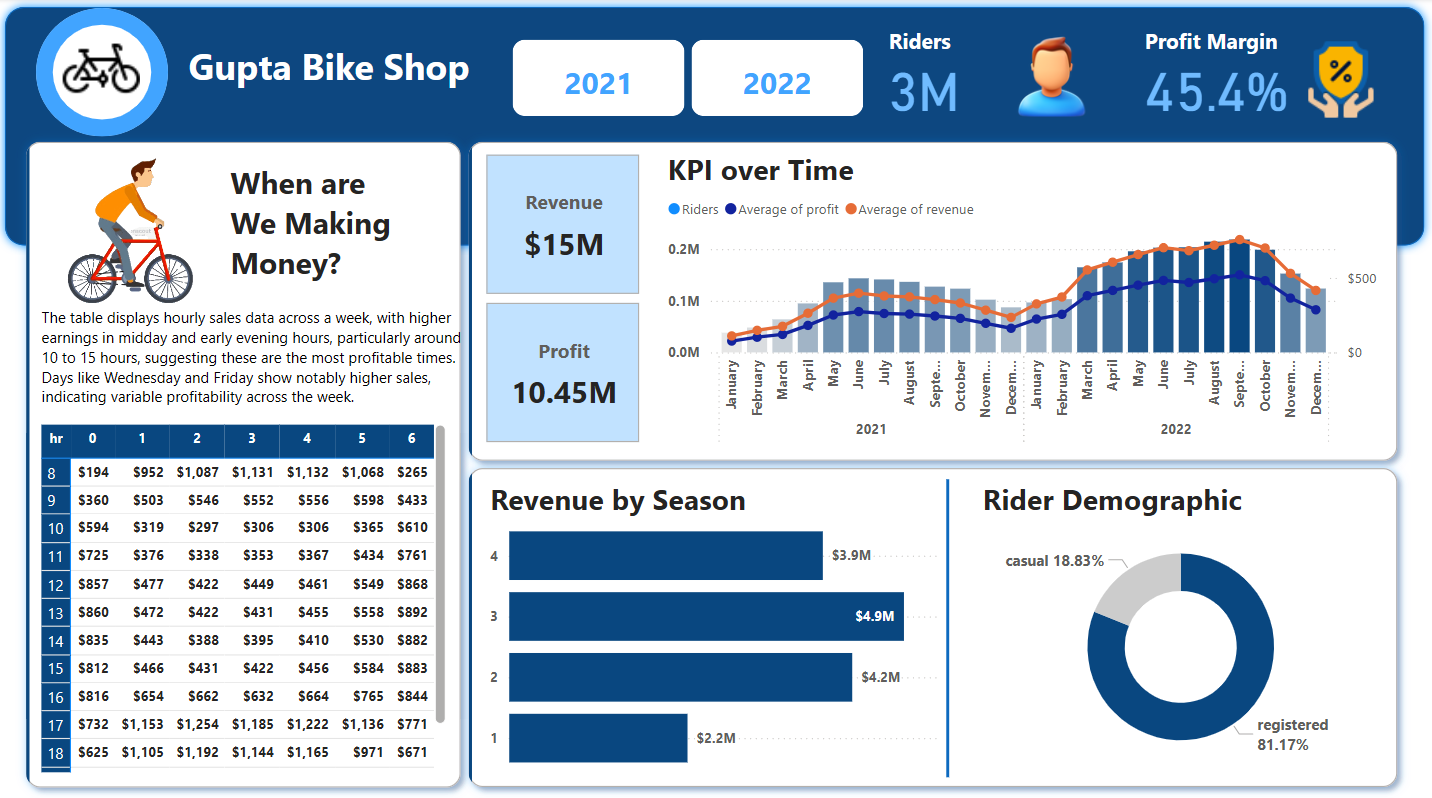

What the dashboard file says about the page in this screenshot:
{"tool":"powerbi","page":{"name":"Page 1","canvas":[1280,720],"ordinal":0},"visuals":[{"type":"shape","box":[0,0,1280,228.5],"z":0},{"type":"cardVisual","fields":{"Data":["Sum(Query1.riders)"]},"box":[10.1,110.9,421.6,609.8],"z":1000},{"type":"cardVisual","fields":{"Data":["Sum(Query1.riders)"]},"box":[404.6,110.9,861.1,318.2],"z":2000},{"type":"cardVisual","fields":{"Data":["Sum(Query1.riders)"]},"box":[404.6,401.8,861.1,318.2],"z":3000},{"type":"cardVisual","fields":{"Data":["Sum(Query1.riders)"]},"box":[20.2,110.9,207.4,180],"z":4000},{"type":"pivotTable","fields":{"Rows":["Query1.hr"],"Values":["Avg(Query1.revenue)"],"Columns":["Query1.weekday"]},"box":[35.3,374.6,369.6,319.2],"z":5000},{"type":"textbox","box":[203.3,141.1,201.6,119.3],"z":6000},{"type":"textbox","box":[35.3,270.4,396.4,104.1],"z":7000},{"type":"lineClusteredColumnComboChart","title":"KPI over Time","fields":{"Category":["Query1.dteday.Variation.Date Hierarchy.Year","Query1.dteday.Variation.Date Hierarchy.Month","Query1.dteday.Variation.Date Hierarchy.Day"],"Y":["Sum(Query1.riders)"],"Y2":["Avg(Query1.profit)","Avg(Query1.revenue)"]},"box":[593,134.4,643.4,272.1],"z":8000},{"type":"clusteredBarChart","title":"Revenue by Season","fields":{"Category":["Query1.season"],"Y":["Sum(Query1.revenue)"]},"box":[435.1,428.3,409.9,265.4],"z":9000},{"type":"donutChart","title":"Rider Demographic","fields":{"Y":["Sum(Query1.riders)"],"Category":["Query1.rider_type"]},"box":[873.5,428.3,362.8,265.4],"z":10000},{"type":"shape","box":[821.4,428.3,52.1,265.4],"z":11000},{"type":"cardVisual","title":"KPI over Time","fields":{"Data":["Sum(Query1.revenue)","Sum(Query1.profit)"]},"box":[431.7,134.4,146.1,267.1],"z":12000},{"type":"cardVisual","fields":{"Data":["Sum(Query1.riders)","Query1.Profit_Margin"]},"box":[777.7,8.4,458.6,102.5],"z":13000},{"type":"image","box":[1147.3,28.6,100.8,87.3],"z":14000},{"type":"shape","box":[35.3,8.4,117.6,114.2],"z":15000},{"type":"image","box":[28.6,23.5,129.3,79],"z":16000},{"type":"textbox","box":[157.9,33.6,277.2,58.8],"z":17000},{"type":"advancedSlicerVisual","title":"Year","fields":{"Values":["Query1.Year"]},"box":[455.2,31.9,322.5,79],"z":18000}]}

Visuals, with their boxes in screenshot pixels (x1, y1, x2, y2), scaled from the page's 1280x720 canvas onto the 1432x798 screenshot:
shape: box=[0, 0, 1431, 253]
cardVisual - Sum(Query1.riders): box=[11, 123, 483, 797]
cardVisual - Sum(Query1.riders): box=[453, 123, 1416, 476]
cardVisual - Sum(Query1.riders): box=[453, 445, 1416, 797]
cardVisual - Sum(Query1.riders): box=[23, 123, 255, 322]
pivotTable - Query1.hr x Avg(Query1.revenue): box=[39, 415, 453, 769]
textbox: box=[227, 156, 453, 289]
textbox: box=[39, 300, 483, 415]
"KPI over Time" lineClusteredColumnComboChart: box=[663, 149, 1383, 451]
"Revenue by Season" clusteredBarChart: box=[487, 475, 945, 769]
"Rider Demographic" donutChart: box=[977, 475, 1383, 769]
shape: box=[919, 475, 977, 769]
"KPI over Time" cardVisual: box=[483, 149, 646, 445]
cardVisual - Sum(Query1.riders) x Query1.Profit_Margin: box=[870, 9, 1383, 123]
image: box=[1284, 32, 1396, 128]
shape: box=[39, 9, 171, 136]
image: box=[32, 26, 177, 114]
textbox: box=[177, 37, 487, 102]
"Year" advancedSlicerVisual: box=[509, 35, 870, 123]
